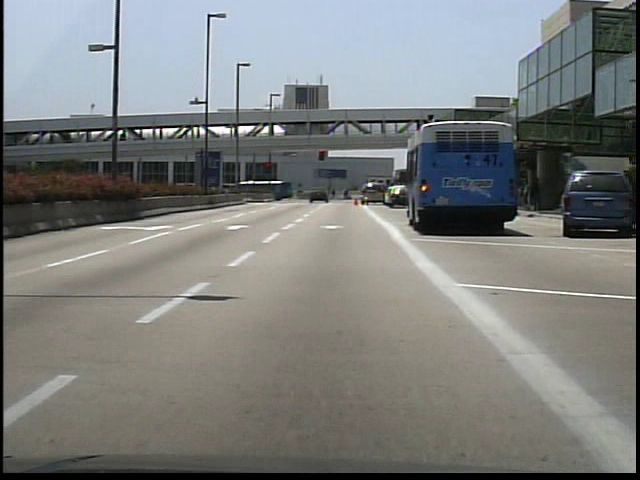person: (528, 174, 542, 210), (340, 186, 353, 200), (331, 186, 332, 201)
